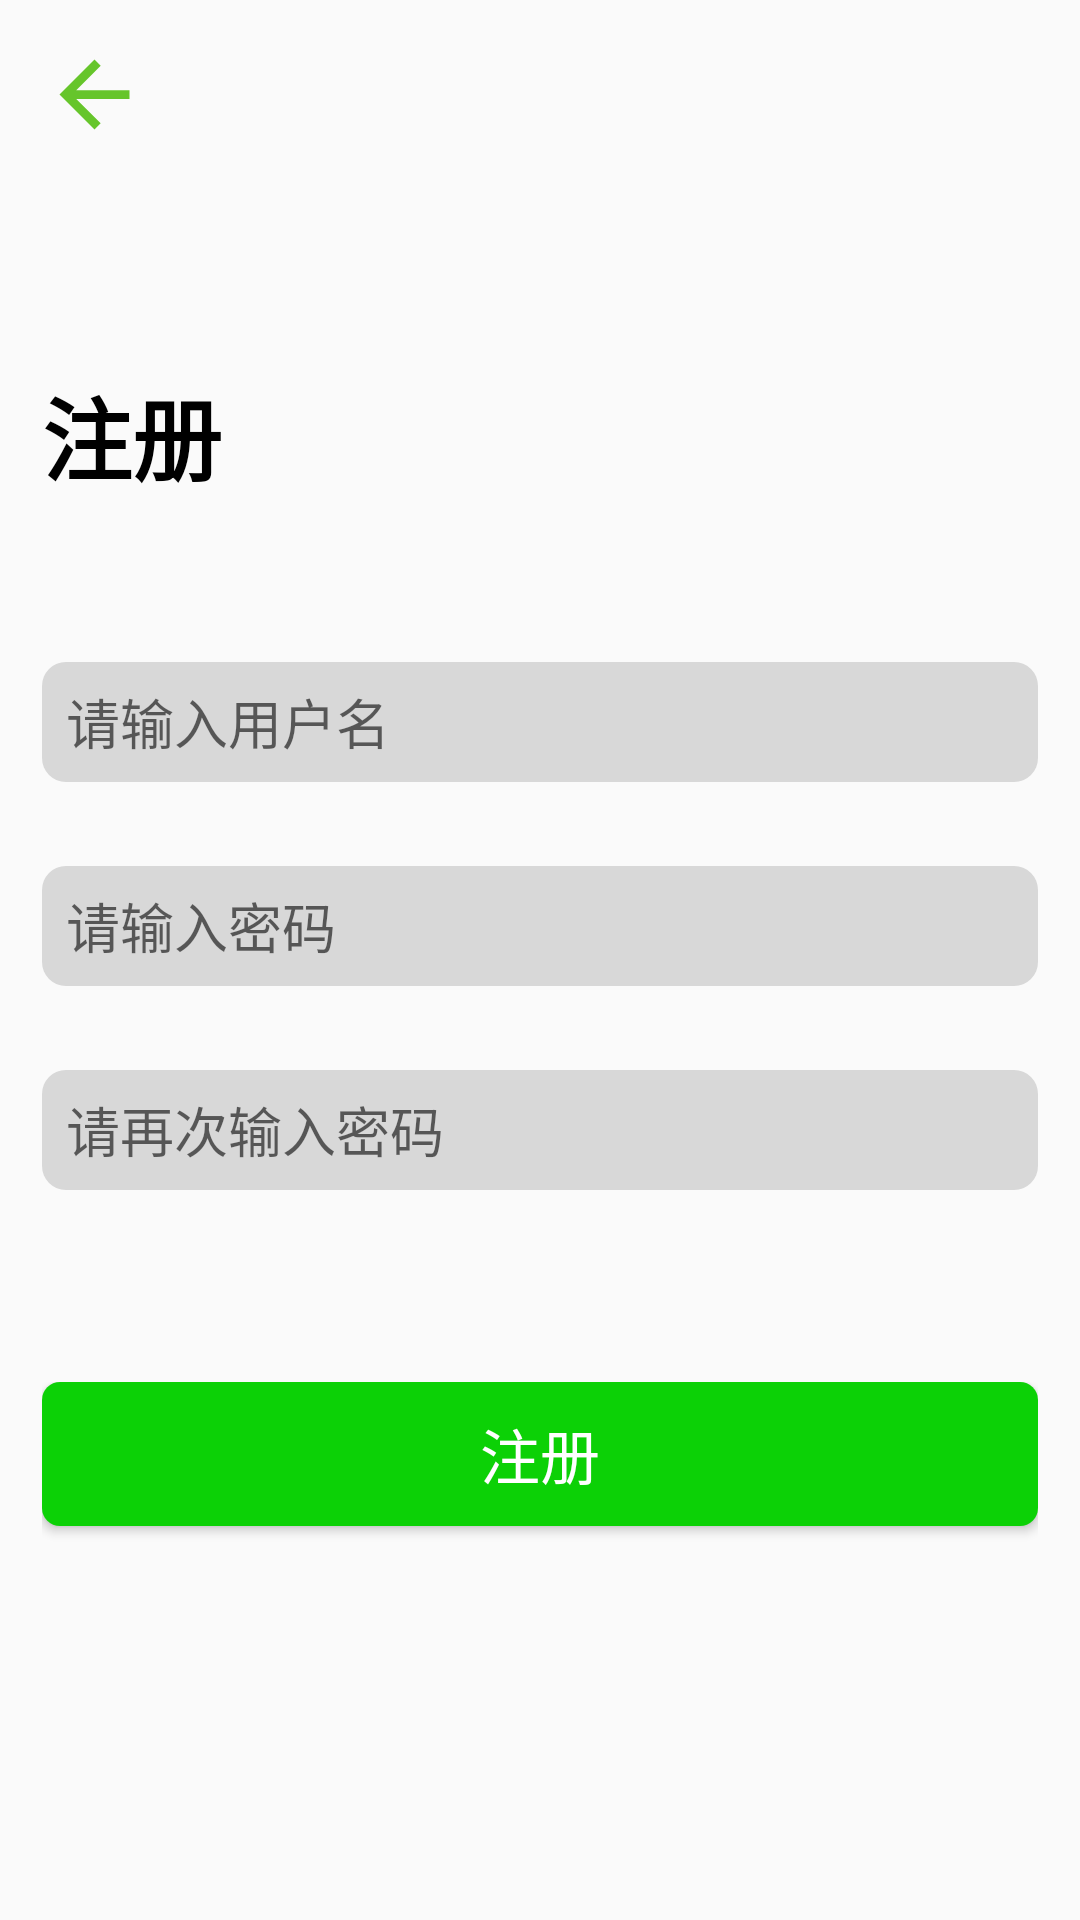

Screen size 1080 x 1920. Icon name, then its center in pixels as [x,y]:
back: [94,94]
